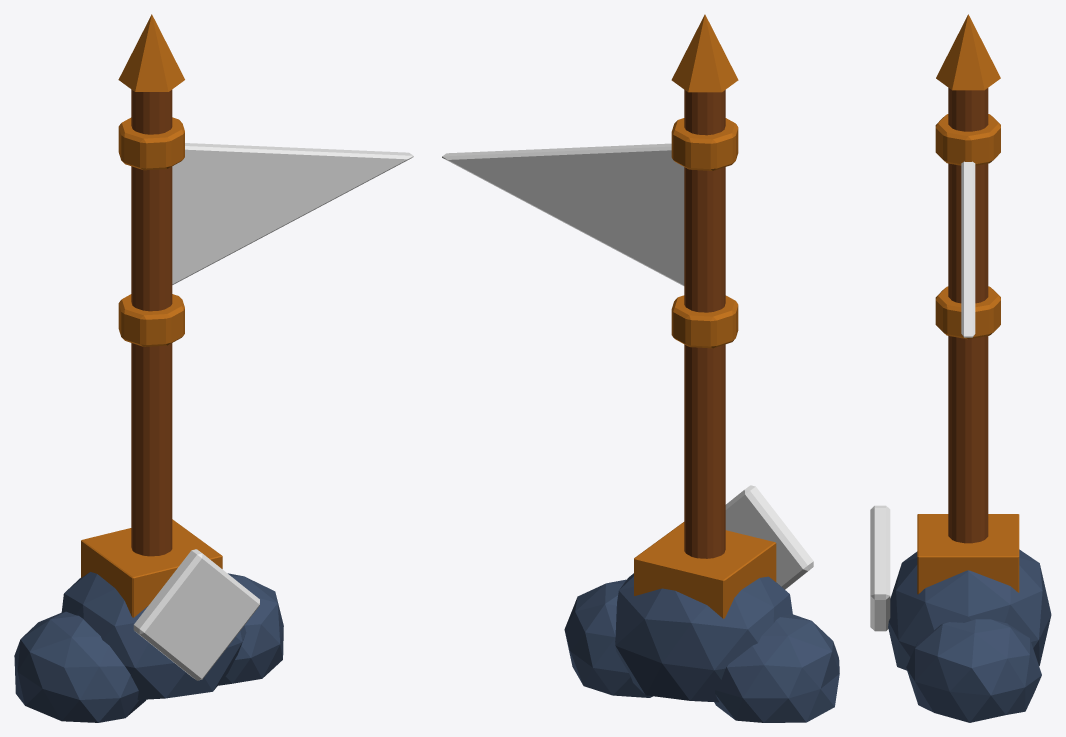
The model's file is track_flag.fbx.
3 renders of one model, left to right at view 1: azimuth 30°, elevation 25°; view 2: azimuth 150°, elevation 25°; view 3: azimuth 270°, elevation 25°, orthographic. The views are drawn at different scales.
Parts seen in each view (by area): view 1: Route_Flag, Flag_Pole, BaseRock_Left, BaseRock_Center, Route_Sign, Pole_Socket, BaseRock_Right, Pole_Finial, Collar_Upper, Collar_Lower, Route_Chevron; view 2: Route_Flag, Flag_Pole, BaseRock_Center, BaseRock_Left, Pole_Socket, BaseRock_Right, Route_Sign, Pole_Finial, Collar_Lower, Collar_Upper; view 3: Flag_Pole, BaseRock_Right, BaseRock_Center, Pole_Socket, Pole_Finial, Route_Flag, Route_Sign, Collar_Upper, Collar_Lower.
Boxes of the visible parts, bbox=[...] form: Route_Flag: bbox=[172, 143, 413, 284]; Flag_Pole: bbox=[131, 89, 172, 556]; BaseRock_Left: bbox=[14, 611, 145, 722]; BaseRock_Center: bbox=[61, 572, 246, 699]; Route_Sign: bbox=[133, 549, 259, 680]; Pole_Socket: bbox=[81, 519, 222, 617]; BaseRock_Right: bbox=[218, 573, 283, 685]; Pole_Finial: bbox=[118, 14, 184, 91]; Collar_Upper: bbox=[118, 117, 184, 170]; Collar_Lower: bbox=[118, 294, 184, 346]; Route_Chevron: bbox=[168, 575, 237, 631]; Route_Flag: bbox=[442, 143, 684, 285]; Flag_Pole: bbox=[684, 90, 725, 558]; BaseRock_Center: bbox=[615, 573, 792, 702]; BaseRock_Left: bbox=[714, 614, 839, 722]; Pole_Socket: bbox=[634, 522, 776, 618]; BaseRock_Right: bbox=[564, 579, 652, 697]; Route_Sign: bbox=[725, 485, 813, 589]; Pole_Finial: bbox=[671, 14, 738, 92]; Collar_Lower: bbox=[671, 295, 738, 348]; Collar_Upper: bbox=[671, 118, 738, 170]; Flag_Pole: bbox=[948, 88, 988, 543]; BaseRock_Right: bbox=[906, 619, 1041, 722]; BaseRock_Center: bbox=[888, 549, 1051, 670]; Pole_Socket: bbox=[917, 514, 1019, 594]; Pole_Finial: bbox=[936, 14, 1000, 90]; Route_Flag: bbox=[961, 161, 975, 337]; Route_Sign: bbox=[870, 505, 890, 631]; Collar_Upper: bbox=[935, 114, 1000, 165]; Collar_Lower: bbox=[935, 286, 1000, 339].
Bounding box in the file's own units: 1.54 × 2.56 × 0.6448.
Materials: 5 (3 with a texture image).
